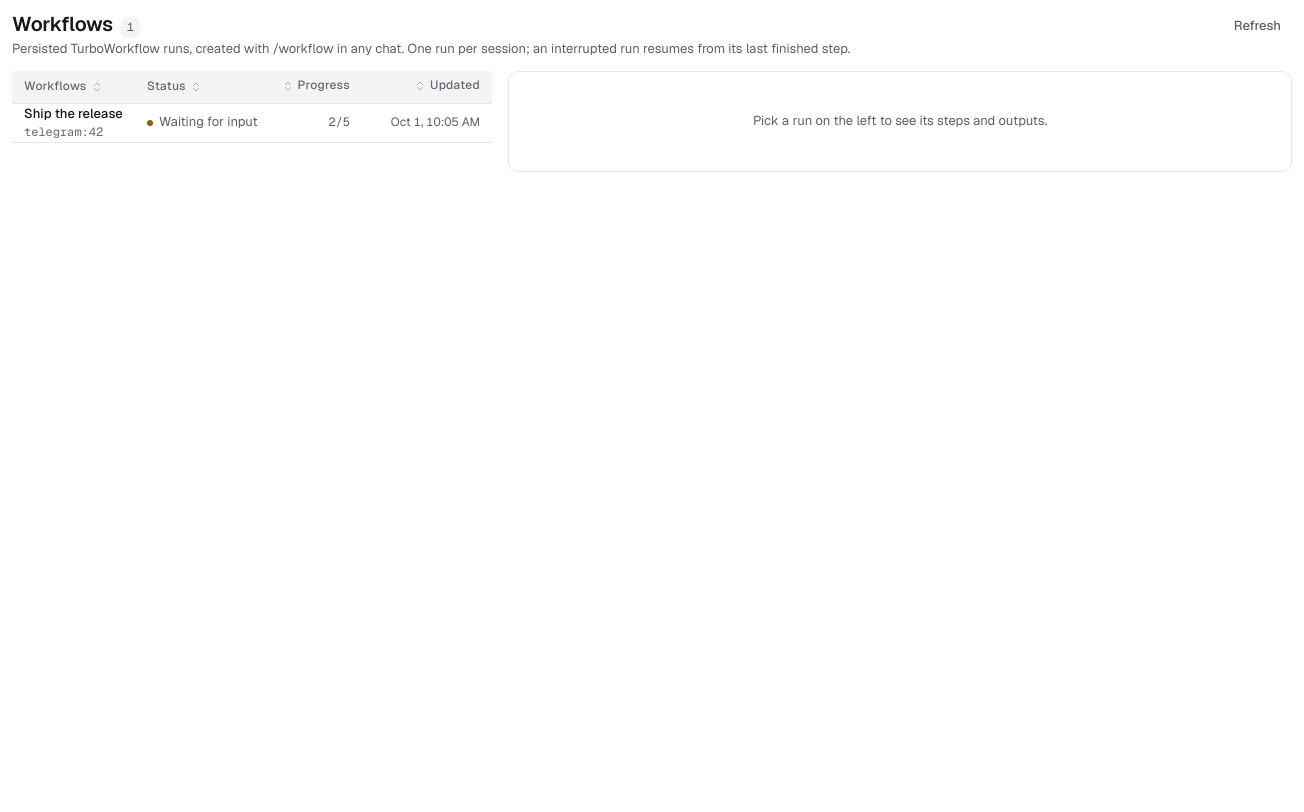
Test: Workflows › keeps the error from a rejected action without dropping the list
Click the text "Ship the release". click: (74, 114)
box: x1=24 y1=105 x2=123 y2=124
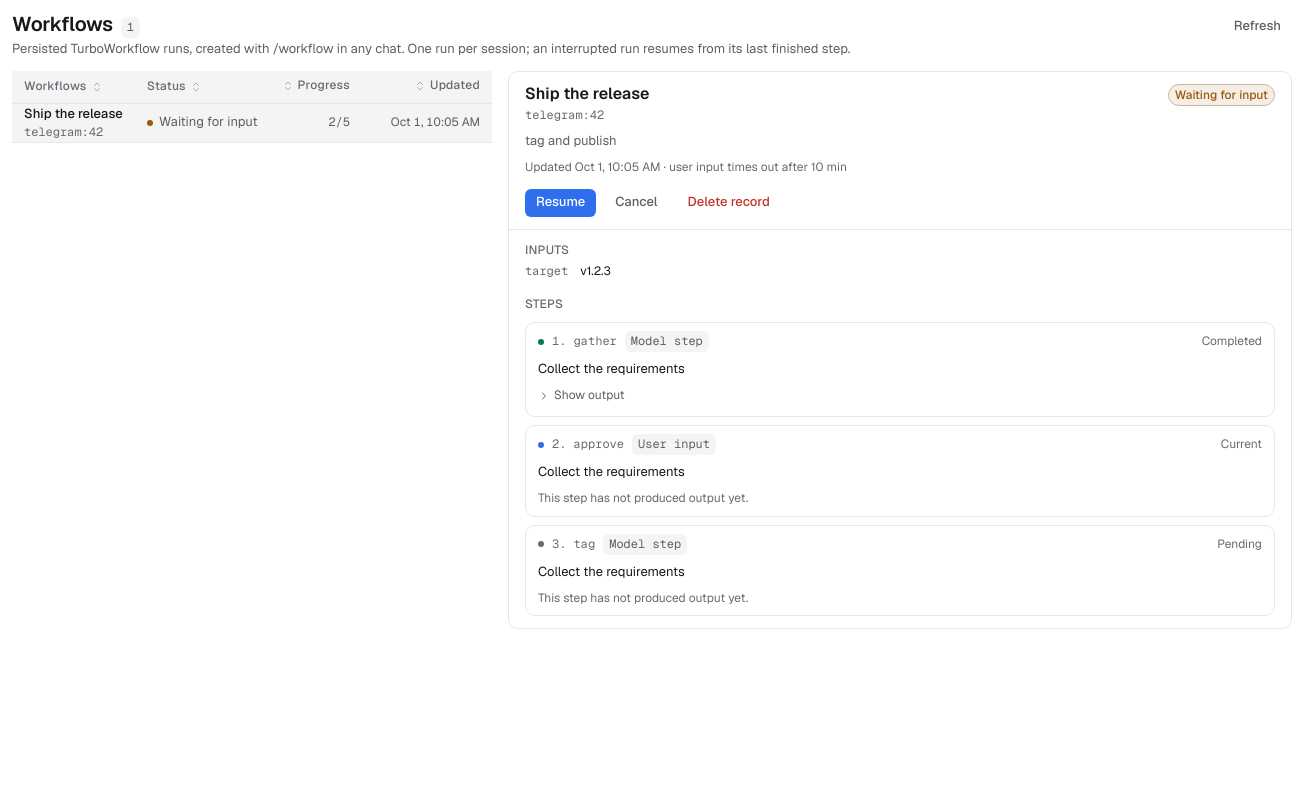
Click the button "Resume". click: (561, 203)
box: x1=525 y1=189 x2=596 y2=217
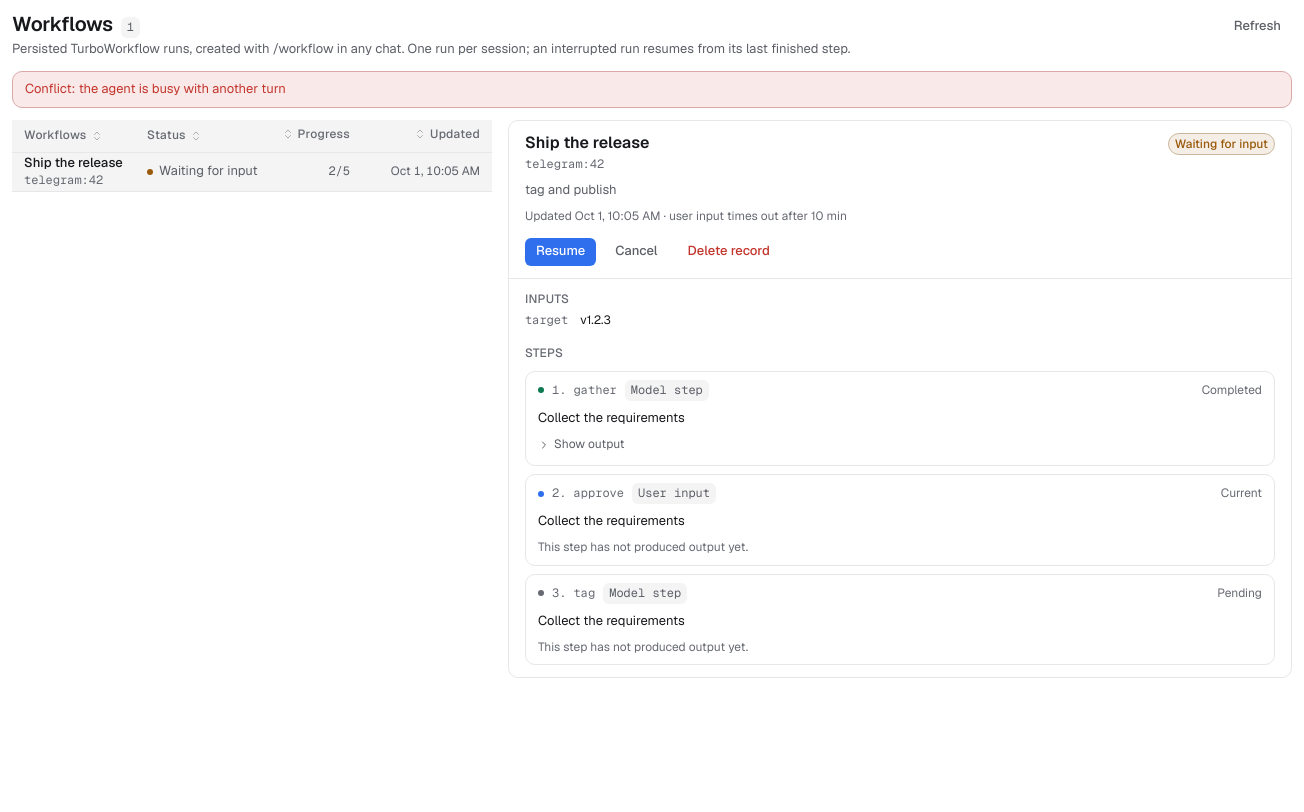
Expected: the text "Conflict: the agent is busy with another turn" is shown, x1=12 y1=71 x2=1292 y2=108
